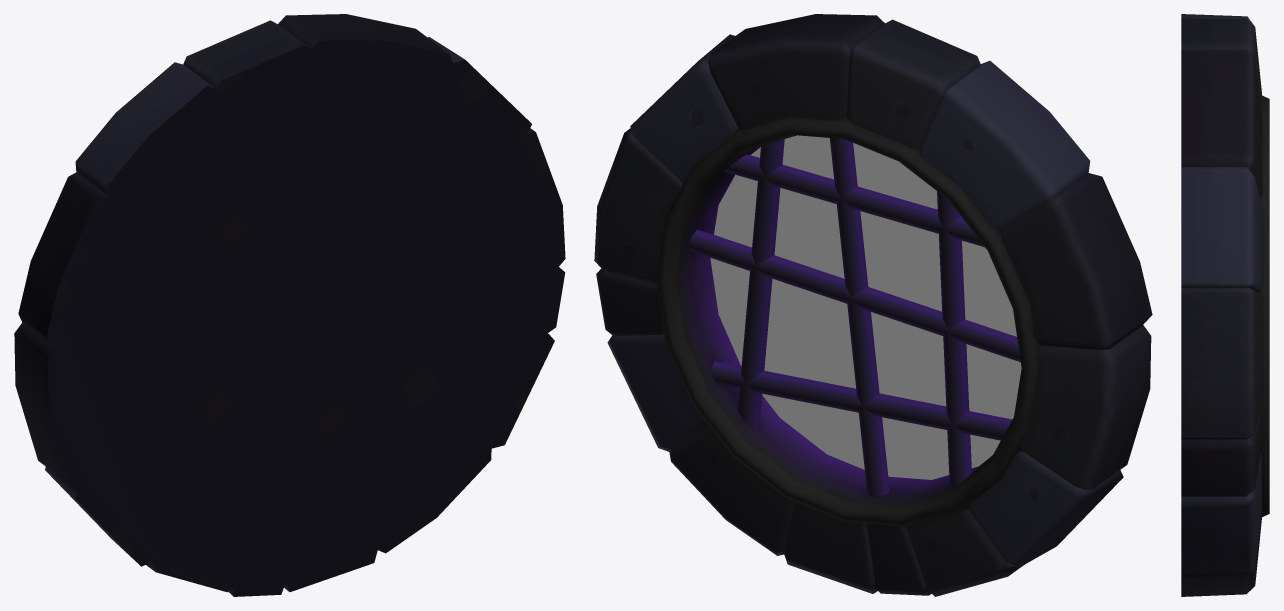
Rendered from PurplePit.fbx.
3 renders of one model, left to right at view 1: azimuth 30°, elevation 25°; view 2: azimuth 150°, elevation 25°; view 3: azimuth 270°, elevation 25°, orthographic. The views are drawn at different scales.
Visible parts, largest first — view 1: PurplePitNotLitUp; view 2: PurplePitNotLitUp, PurplePitLitUp; view 3: PurplePitNotLitUp.
Boxes of the visible parts, box(x1,y1,x2,y2) form: PurplePitNotLitUp: box(14, 14, 565, 596); PurplePitNotLitUp: box(594, 14, 1152, 596); PurplePitLitUp: box(710, 135, 1021, 479); PurplePitNotLitUp: box(1181, 14, 1269, 596).
Bounding box in the file's own units: 100 × 101 × 15.26.
